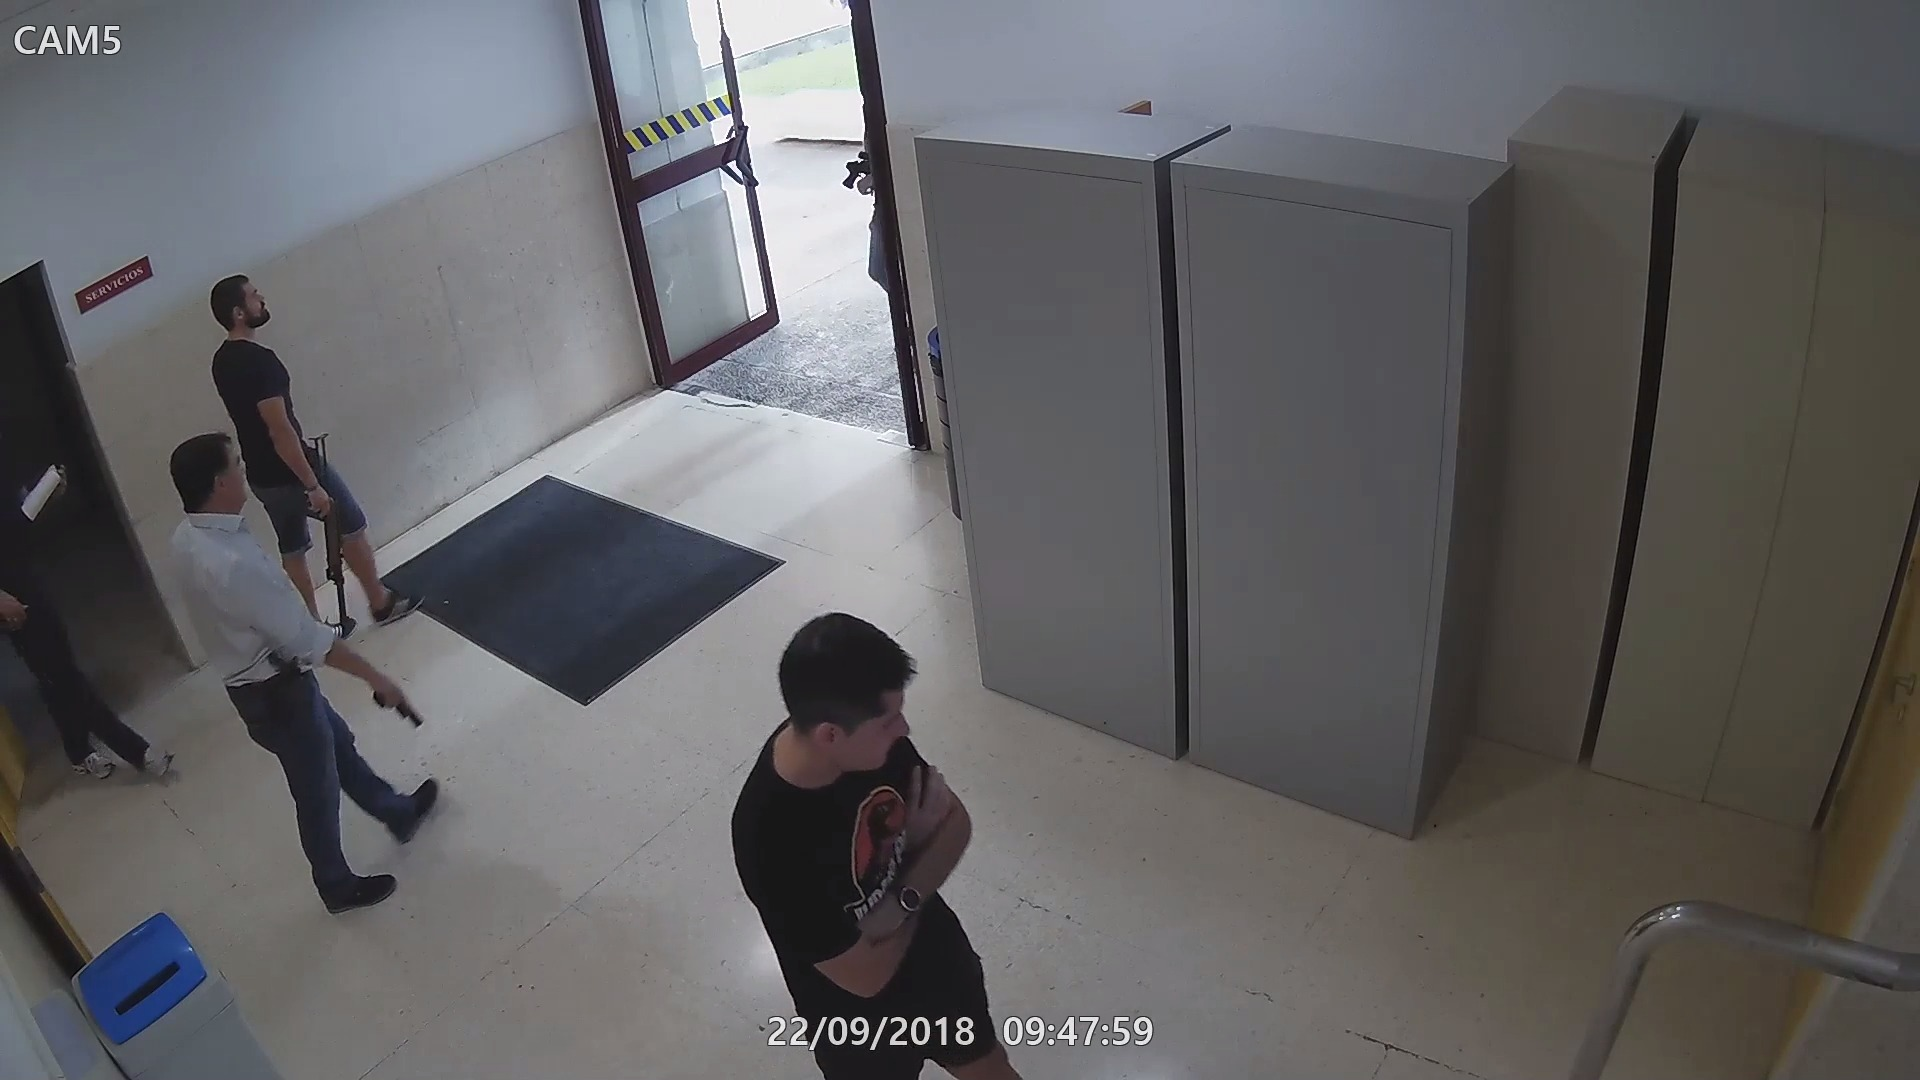Handgun: (368, 678, 433, 724)
Short_rifle: (306, 473, 360, 641), (843, 144, 876, 195)
